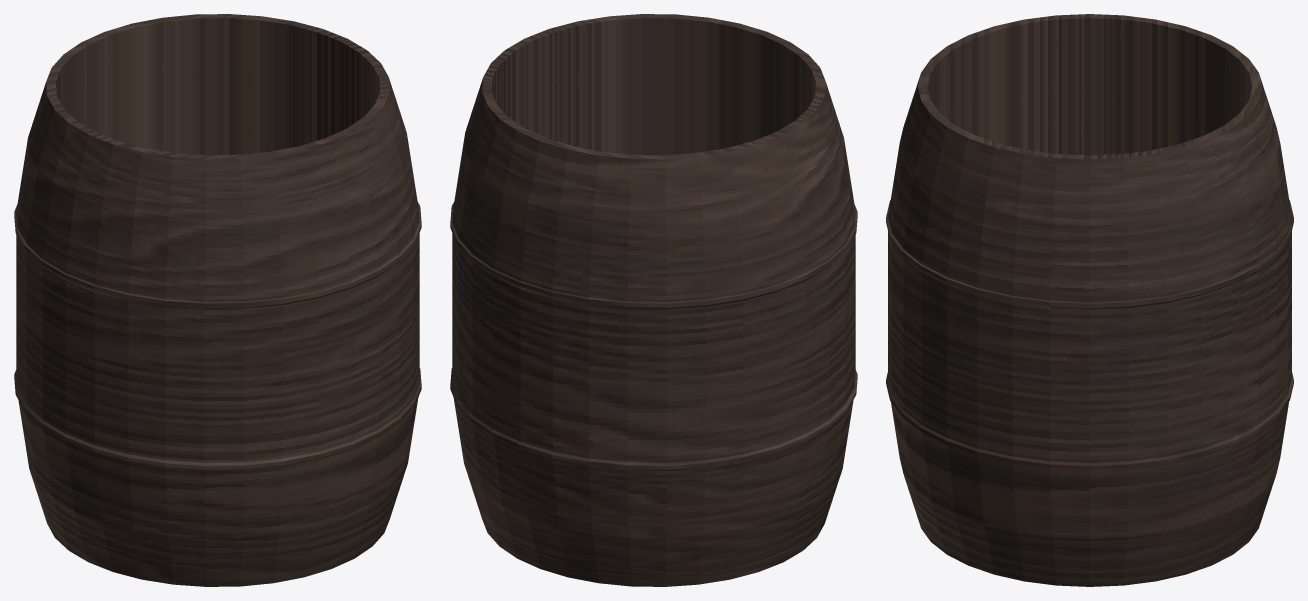
The model's file is cubilete.glb.
The picture shows the model from 3 angles, left to right: view 1: azimuth 30°, elevation 25°; view 2: azimuth 150°, elevation 25°; view 3: azimuth 270°, elevation 25°; orthographic projection.
Visible parts, largest first — view 1: Cylinder.009; view 2: Cylinder.009; view 3: Cylinder.009.
Part boxes in pixels (x1,y1,x2,y2): Cylinder.009: [14, 14, 421, 586]; Cylinder.009: [450, 14, 857, 586]; Cylinder.009: [886, 14, 1293, 586].
Bounding box in the file's own units: 0.094 × 0.1087 × 0.094.
Materials: 1 (1 with a texture image).
